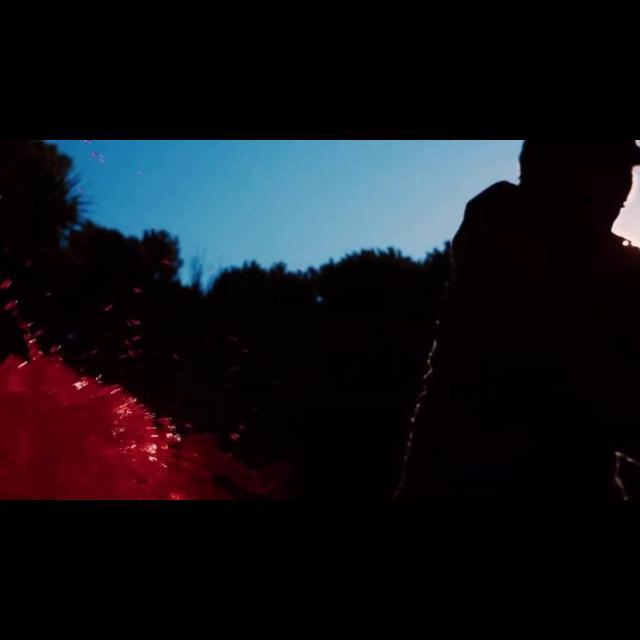blood: (0, 270, 282, 500)
